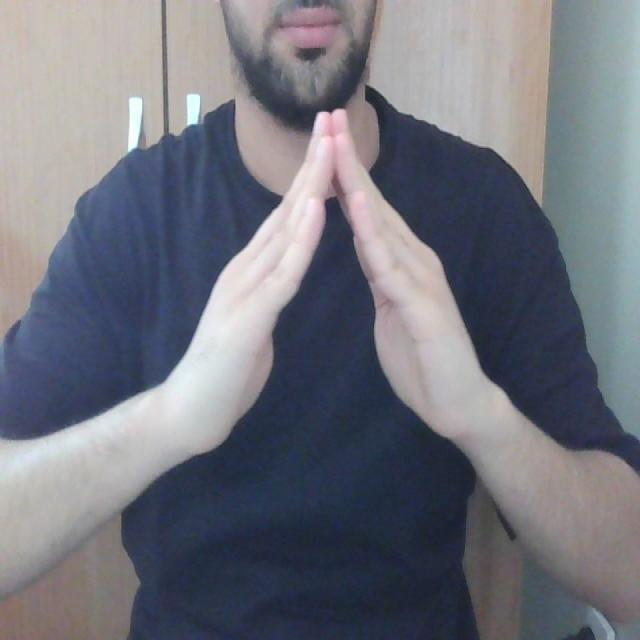Ev: (178, 104, 487, 473)
